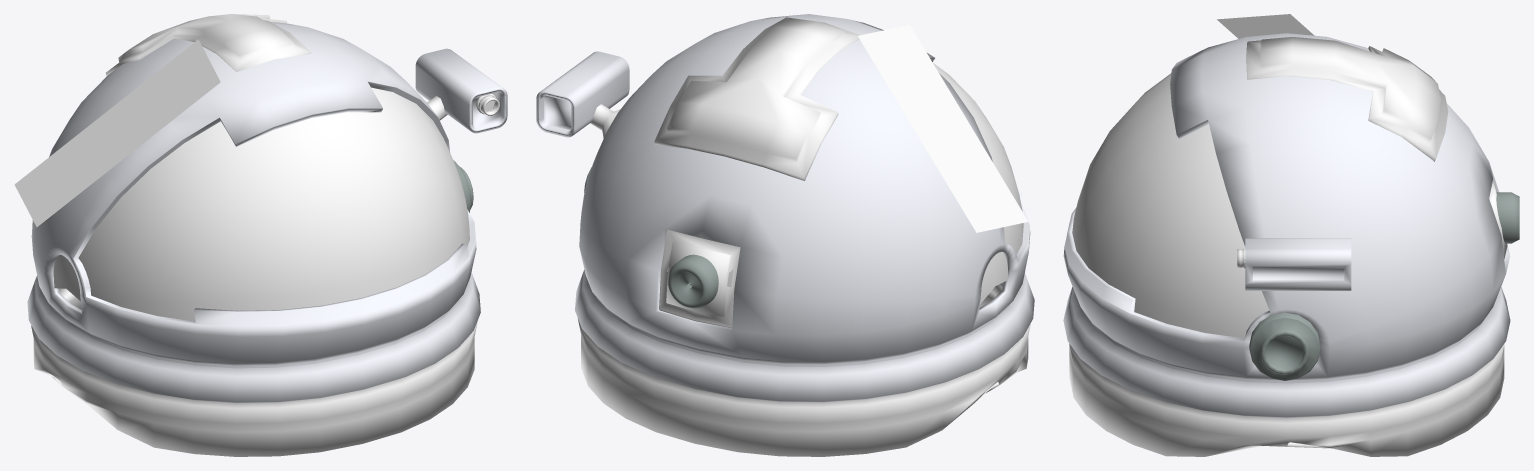
Rendered from space_helmet.glb.
3 views of the same model, side by side, from view 1: azimuth 30°, elevation 25°; view 2: azimuth 150°, elevation 25°; view 3: azimuth 270°, elevation 25° (orthographic).
Visible parts, largest first — view 1: Outer Helmet, Visor, NASA-Logo-PNG-Image, Top helmet, Camera; view 2: Outer Helmet, Top helmet, NASA-Logo-PNG-Image, Camera, Outer Helmet.001, Visor, breather; view 3: Outer Helmet, Visor, Top helmet, Camera, Hinge, NASA-Logo-PNG-Image, breather.
Part boxes in pixels (left/top/right/bottom): Outer Helmet: left=27, top=22, right=480, bottom=456; Visor: left=53, top=87, right=469, bottom=321; NASA-Logo-PNG-Image: left=14, top=39, right=220, bottom=227; Top helmet: left=106, top=14, right=311, bottom=76; Camera: left=415, top=48, right=507, bottom=133; Outer Helmet: left=575, top=14, right=1034, bottom=456; Top helmet: left=654, top=17, right=859, bottom=180; NASA-Logo-PNG-Image: left=858, top=25, right=1028, bottom=232; Camera: left=536, top=51, right=629, bottom=137; Outer Helmet.001: left=660, top=229, right=740, bottom=326; Visor: left=659, top=63, right=1023, bottom=327; breather: left=668, top=254, right=718, bottom=308; Outer Helmet: left=1063, top=33, right=1510, bottom=456; Visor: left=1072, top=73, right=1269, bottom=338; Top helmet: left=1246, top=37, right=1448, bottom=161; Camera: left=1245, top=238, right=1351, bottom=290; Hinge: left=1249, top=312, right=1320, bottom=380; NASA-Logo-PNG-Image: left=1217, top=14, right=1314, bottom=38; breather: left=1496, top=192, right=1519, bottom=243.
Size of the model in its own units: 2.34 by 1.67 by 2.04.
8 materials, 1 textured.
